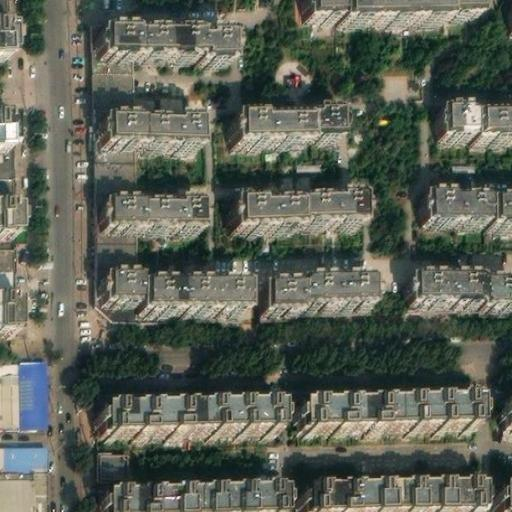building: (82, 409, 269, 447), (295, 405, 481, 443), (98, 286, 246, 325), (232, 114, 343, 151), (96, 40, 232, 67), (260, 285, 371, 316), (96, 211, 203, 243), (408, 284, 512, 316), (97, 130, 197, 162), (294, 495, 481, 512), (96, 496, 282, 512), (439, 108, 512, 145), (229, 208, 297, 241), (19, 362, 53, 427), (419, 200, 488, 231), (297, 201, 360, 232), (0, 474, 34, 512), (93, 454, 127, 483), (487, 402, 512, 440), (487, 484, 512, 511), (487, 210, 512, 234), (309, 0, 339, 13)
